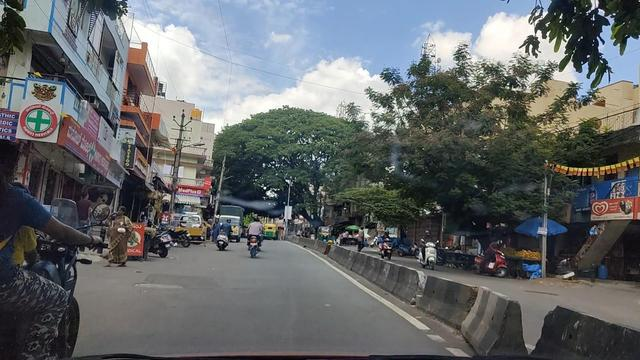LMV: (0, 139, 80, 360)
RoadDamages: (124, 275, 198, 301)
